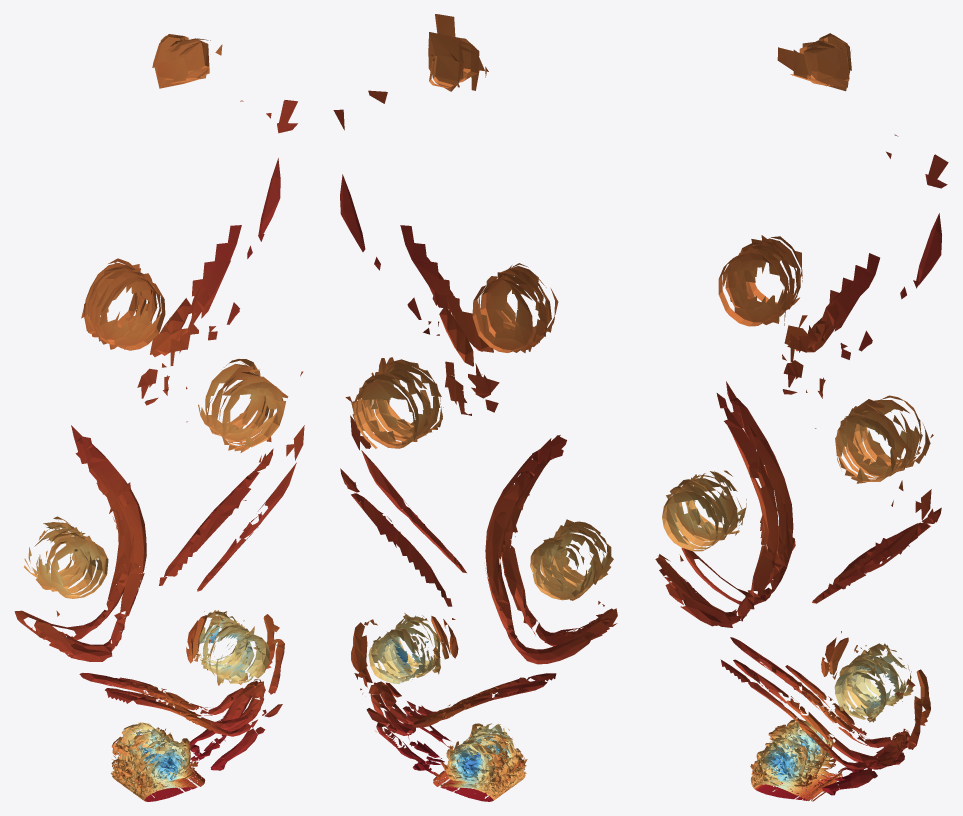
Rendered from flowfield_1_Pressure.glb.
The picture shows the model from 3 angles, left to right: view 1: azimuth 30°, elevation 25°; view 2: azimuth 150°, elevation 25°; view 3: azimuth 330°, elevation 25°; orthographic projection. The views are drawn at different scales.
Visible parts, largest first — view 1: Renderer Node; view 2: Renderer Node; view 3: Renderer Node.
Boxes of the visible parts, x1,y1,x2,y2 form: Renderer Node: (14, 34, 304, 801); Renderer Node: (333, 14, 617, 801); Renderer Node: (655, 33, 948, 801).
Size of the model in its own units: 5.21 by 13.5 by 1.03.
Materials: 1 (1 with a texture image).
